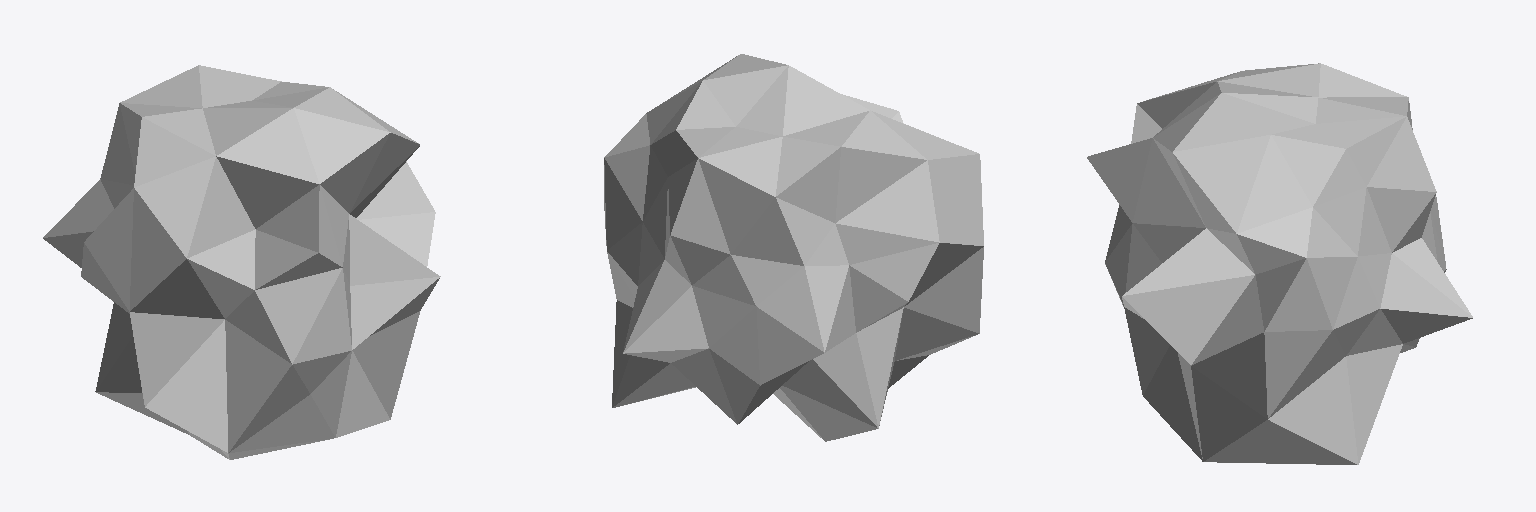
Rendered from asteroidC.obj.
The picture shows the model from 3 angles: view 1: azimuth 30°, elevation 25°; view 2: azimuth 150°, elevation 25°; view 3: azimuth 270°, elevation 25°; orthographic projection.
Visible parts, largest first — view 1: Meteor_3_Cube.015; view 2: Meteor_3_Cube.015; view 3: Meteor_3_Cube.015.
Part boxes in pixels (left/top/right/bottom): Meteor_3_Cube.015: left=43, top=65, right=440, bottom=459; Meteor_3_Cube.015: left=604, top=54, right=983, bottom=441; Meteor_3_Cube.015: left=1087, top=63, right=1472, bottom=464.
Bounding box in the file's own units: 1.31 × 1.22 × 1.28.